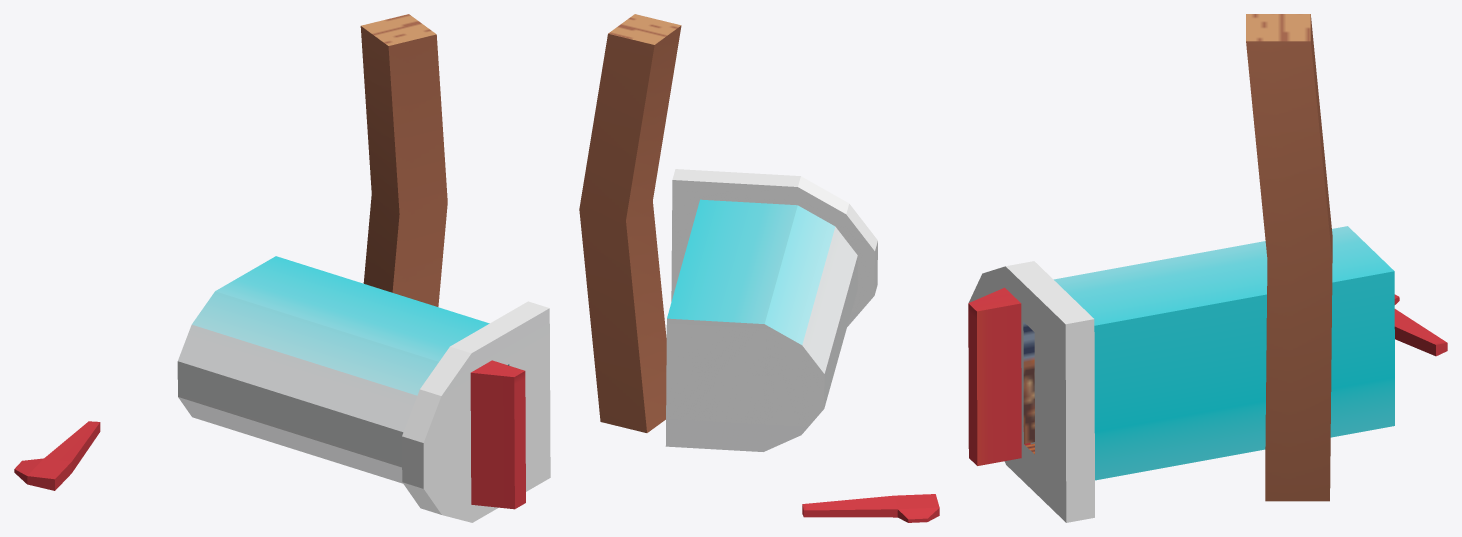
Rendered from CaixaDeCorreioQuebrada.fbx.
3 renders of one model, left to right at view 1: azimuth 30°, elevation 25°; view 2: azimuth 150°, elevation 25°; view 3: azimuth 270°, elevation 25°, orthographic. The views are drawn at different scales.
Parts seen in each view (by area): view 1: Caixa de Correio; view 2: Caixa de Correio; view 3: Caixa de Correio.
Part boxes in pixels (x1,y1,x2,y2): Caixa de Correio: [14, 14, 550, 522]; Caixa de Correio: [579, 14, 939, 522]; Caixa de Correio: [968, 14, 1447, 522].
Bounding box in the file's own units: 62.96 × 56.23 × 59.97.
